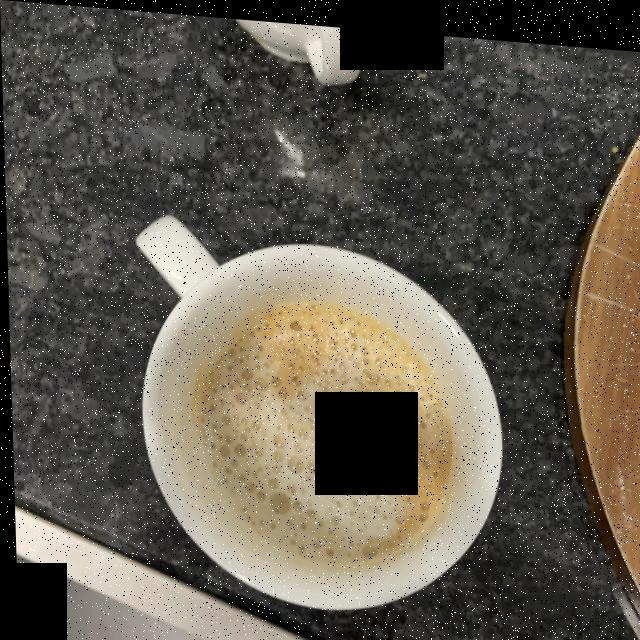coffee-with-caffeine: (192, 300, 444, 560)
